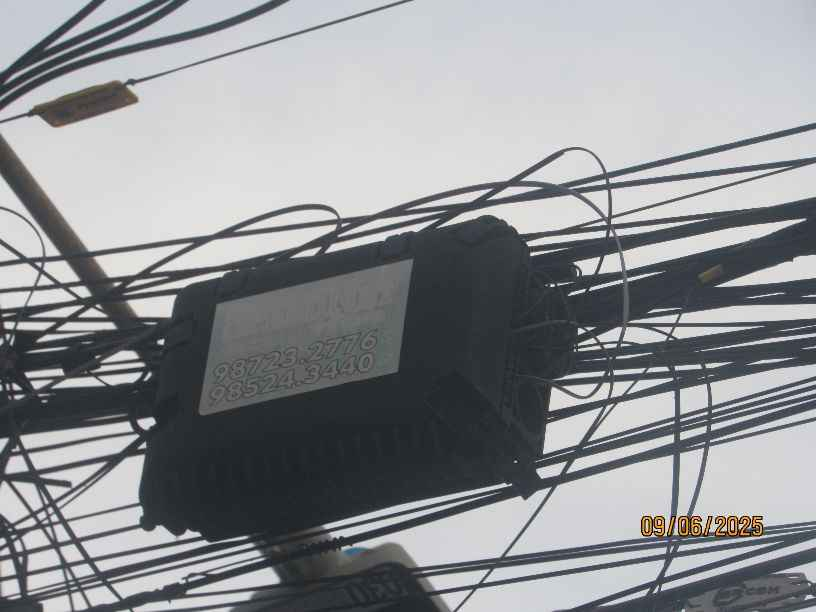caixa_derivacao: (90, 196, 590, 565)
fibra_optica: (21, 55, 154, 152)
